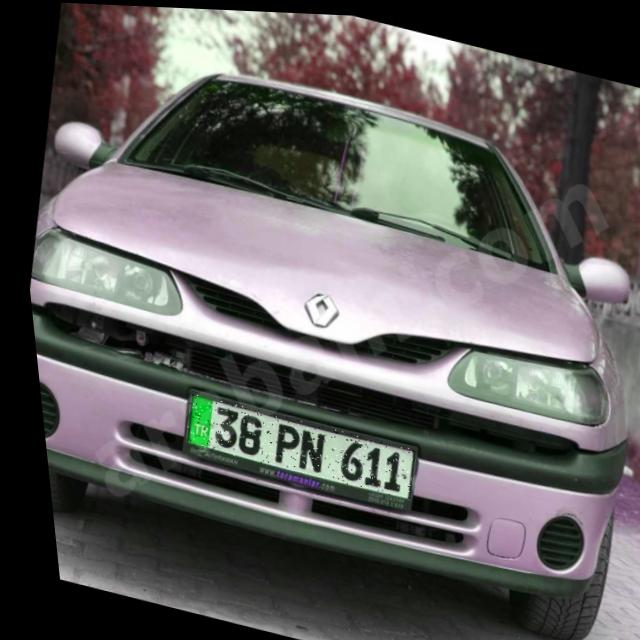license_plate: (172, 391, 409, 496)
